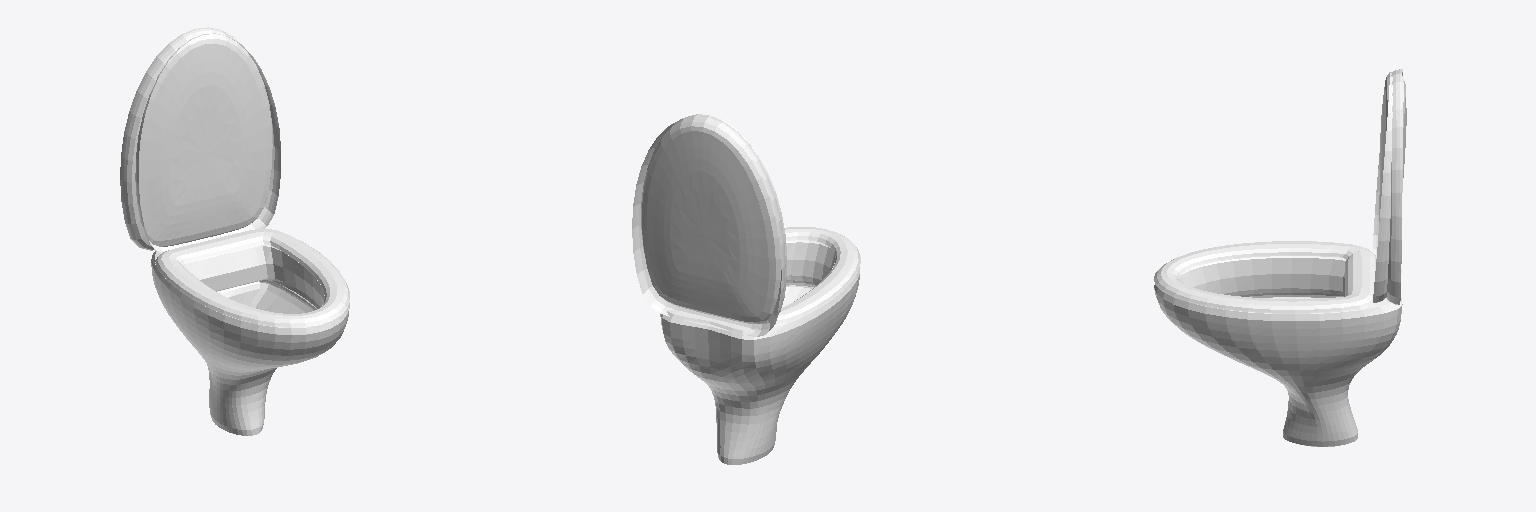
Rendered from toiletA.obj.
3 renders of one model, left to right at view 1: azimuth 30°, elevation 25°; view 2: azimuth 150°, elevation 25°; view 3: azimuth 270°, elevation 25°, orthographic.
Parts seen in each view (by area): view 1: mesh01; view 2: mesh01; view 3: mesh01.
Boxes of the visible parts, box(x1,y1,x2,y2) form: mesh01: box(120, 27, 349, 435); mesh01: box(632, 114, 860, 464); mesh01: box(1153, 69, 1406, 446).
Bounding box in the file's own units: 12.01 × 27.88 × 17.55.